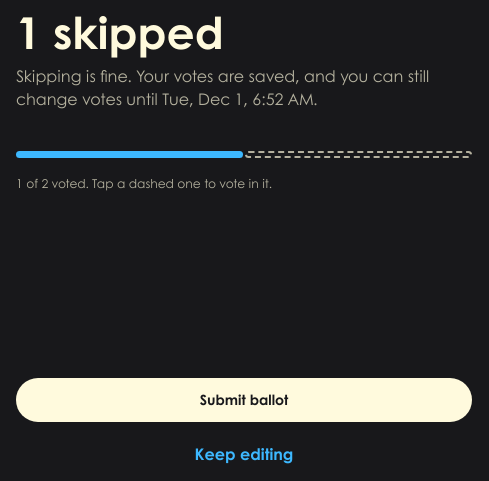
Test: SubmitBallotPage › first tap only arms (no sheet, nothing stored); Keep editing leaves
Click the button "Submit ballot": click(244, 400) 16,378 -> 472,422
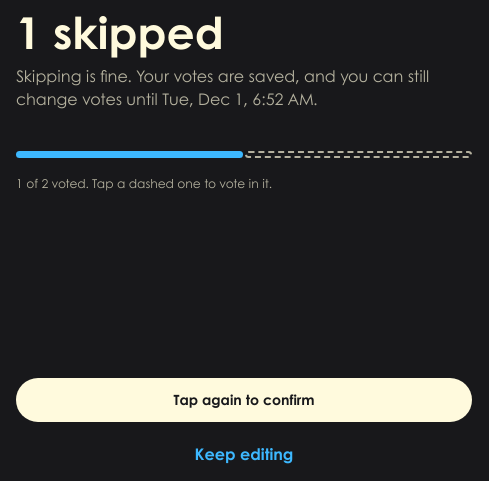
Now the button "Tap again to confirm" is shown, box 16,378 -> 472,422
